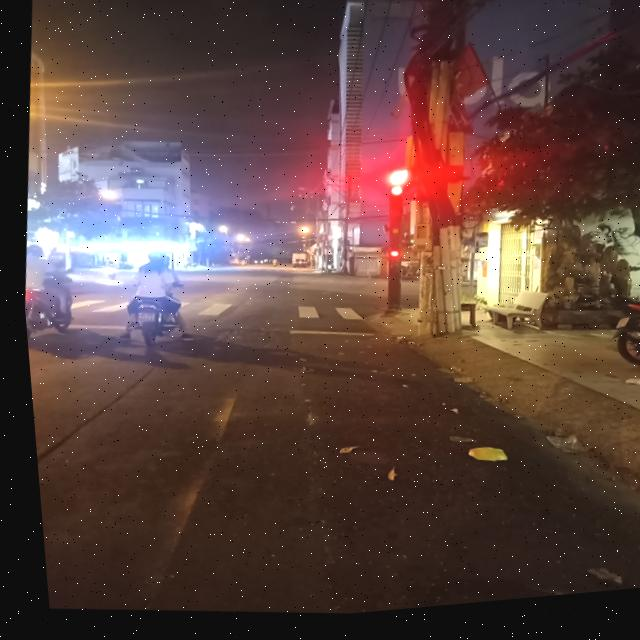Red: (379, 191, 404, 231), (380, 252, 399, 282)
